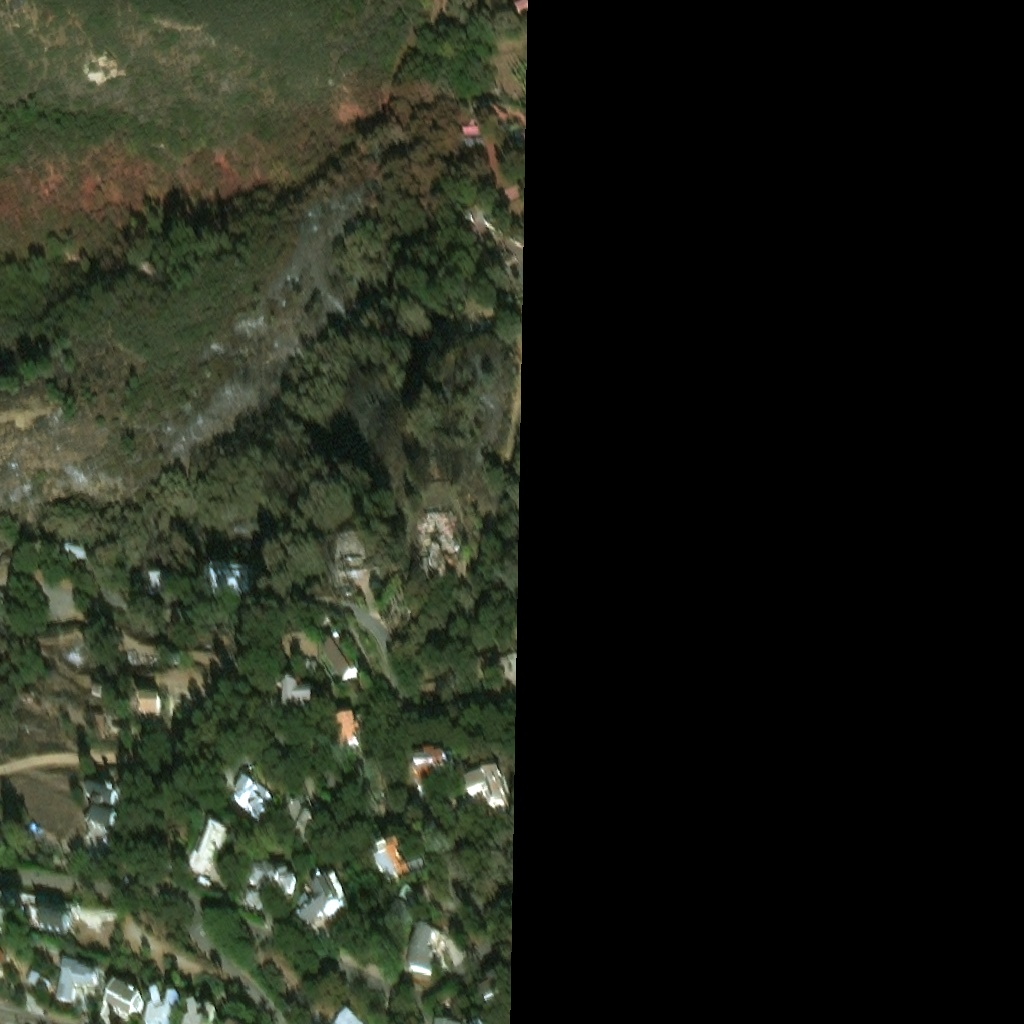0 no-damage: (290, 873, 349, 925), (238, 861, 298, 909), (186, 823, 232, 872), (52, 959, 98, 1005), (374, 844, 426, 883), (99, 980, 146, 1023), (230, 779, 273, 824), (284, 794, 319, 847), (465, 770, 509, 811), (450, 935, 491, 975), (323, 640, 360, 682), (404, 925, 436, 970), (413, 750, 449, 787), (333, 714, 366, 754), (207, 555, 254, 583), (275, 678, 314, 709), (146, 991, 183, 1023), (86, 779, 124, 807), (39, 909, 72, 937), (476, 974, 504, 1007), (124, 690, 161, 713), (87, 804, 118, 829), (186, 1005, 221, 1023), (397, 888, 422, 913), (458, 112, 480, 140), (330, 1006, 365, 1023), (95, 921, 116, 949), (496, 651, 514, 682), (27, 970, 50, 989), (0, 901, 13, 934), (63, 542, 88, 558), (145, 564, 164, 585), (233, 759, 257, 774), (91, 712, 105, 733), (196, 873, 213, 889), (0, 952, 7, 986), (510, 121, 524, 138), (90, 677, 102, 693), (512, 0, 526, 13), (125, 644, 136, 657)
2 major-damage: (332, 523, 405, 627)
3 destroyed: (408, 507, 461, 578)
